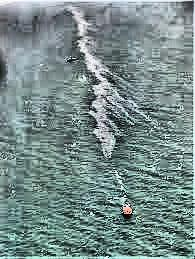sheen: (80, 20, 116, 158)
